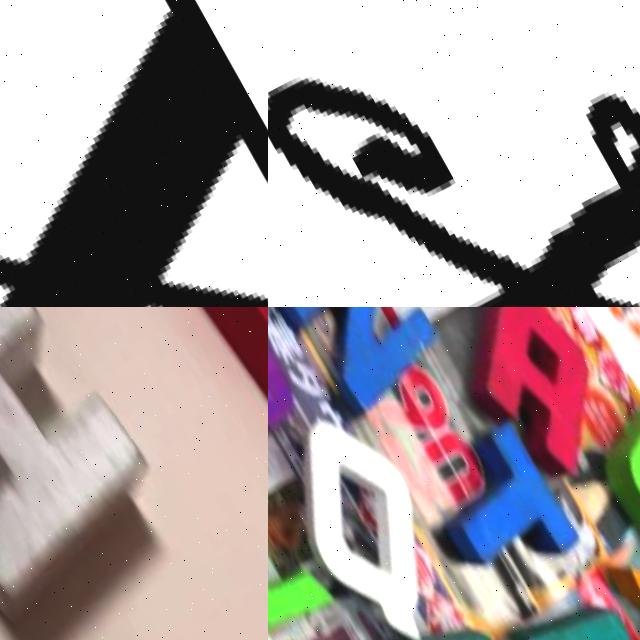A: (445, 307, 631, 486)
C: (590, 383, 640, 568)
D: (508, 580, 640, 640)
H: (0, 307, 185, 636)
K: (357, 596, 549, 640)
N: (268, 307, 457, 426)
Q: (268, 395, 469, 640)
T: (418, 407, 586, 590)
X: (268, 0, 640, 307), (0, 0, 268, 307)
Y: (268, 474, 355, 640)
